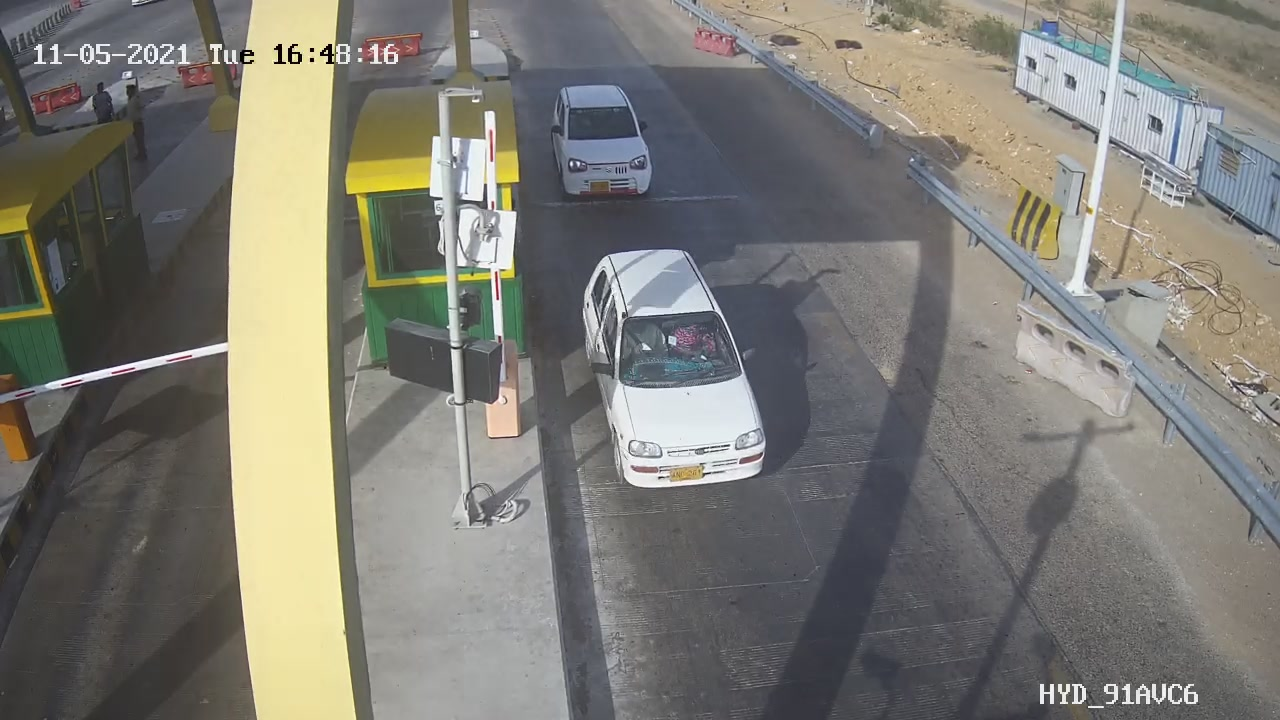F1: (568, 235, 789, 503), (538, 72, 673, 211)
